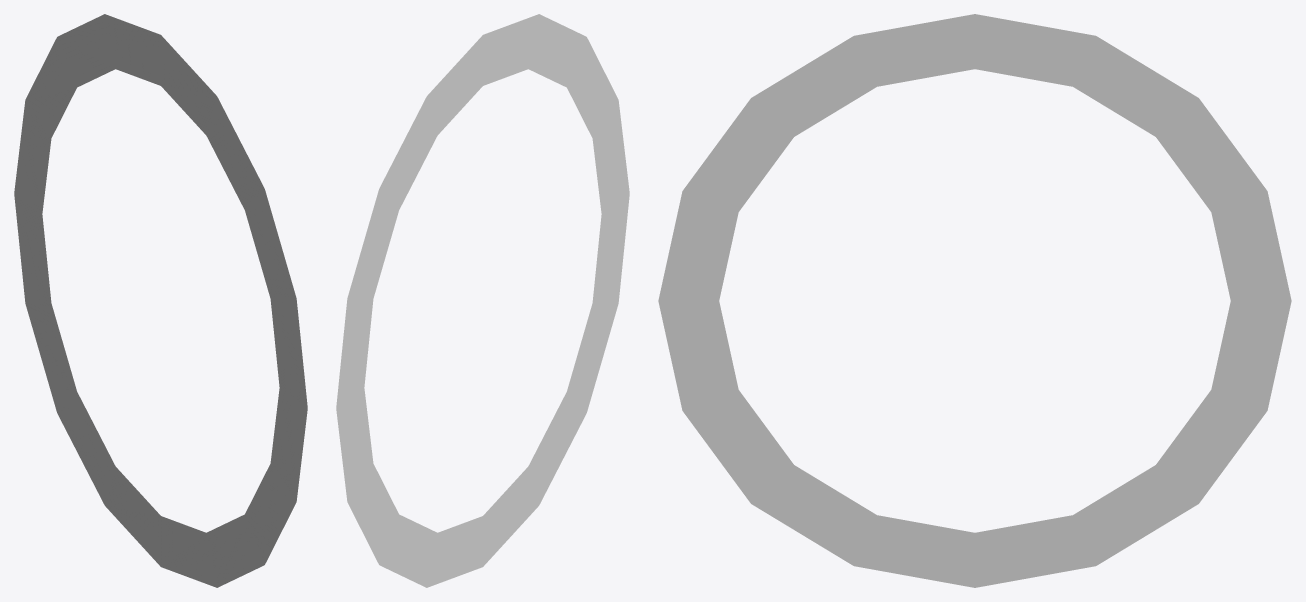
File: players_2.obj
3 renders of one model, left to right at view 1: azimuth 30°, elevation 25°; view 2: azimuth 150°, elevation 25°; view 3: azimuth 270°, elevation 25°, orthographic. The views are drawn at different scales.
Visible parts, largest first — view 1: players_2; view 2: players_2; view 3: players_2.
Part boxes in pixels (x1,y1,x2,y2): players_2: (14,14,307,587); players_2: (336,14,629,587); players_2: (658,14,1291,587).
Bounding box in the file's own units: 1.43e-06 × 18.73 × 18.73.
1 material, 1 textured.
